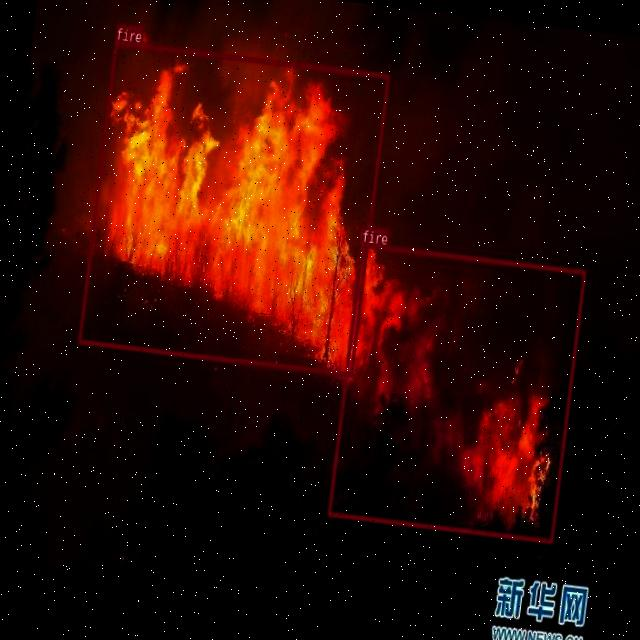fire: (76, 39, 388, 376), (326, 242, 585, 542)
